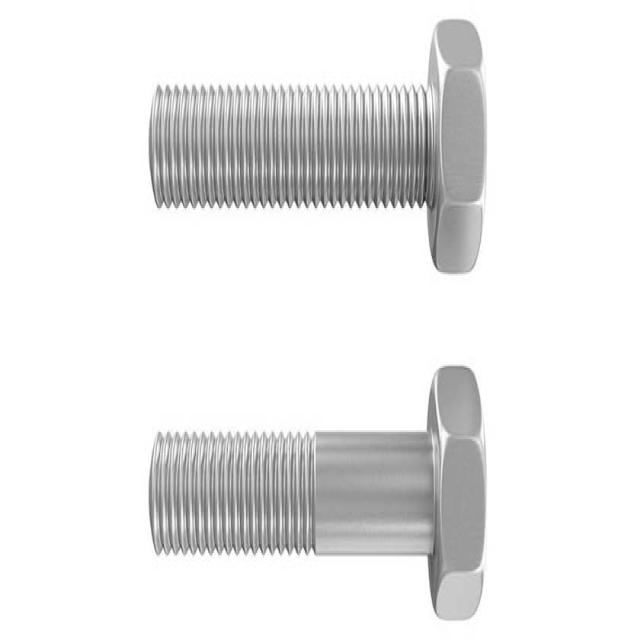Bolt: (146, 16, 486, 280), (148, 362, 488, 626)
